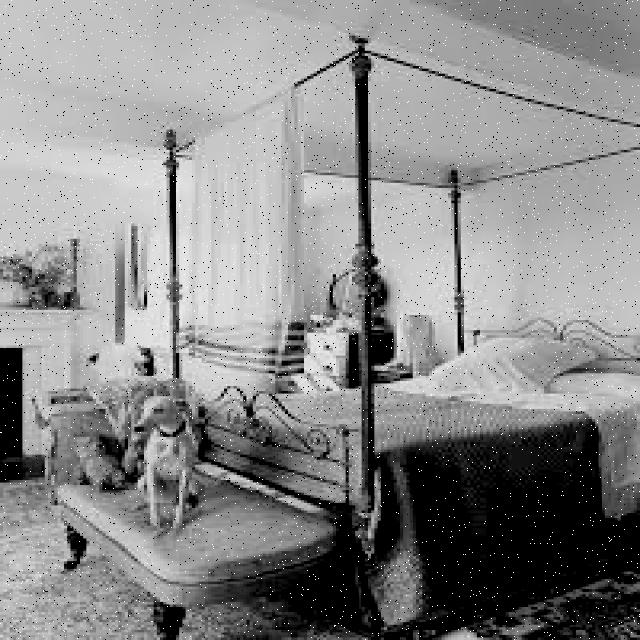bed: (162, 334, 638, 500)
